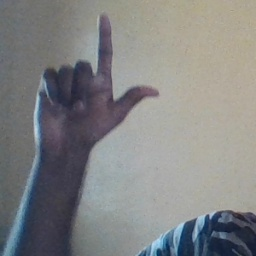L: (30, 11, 163, 149)
